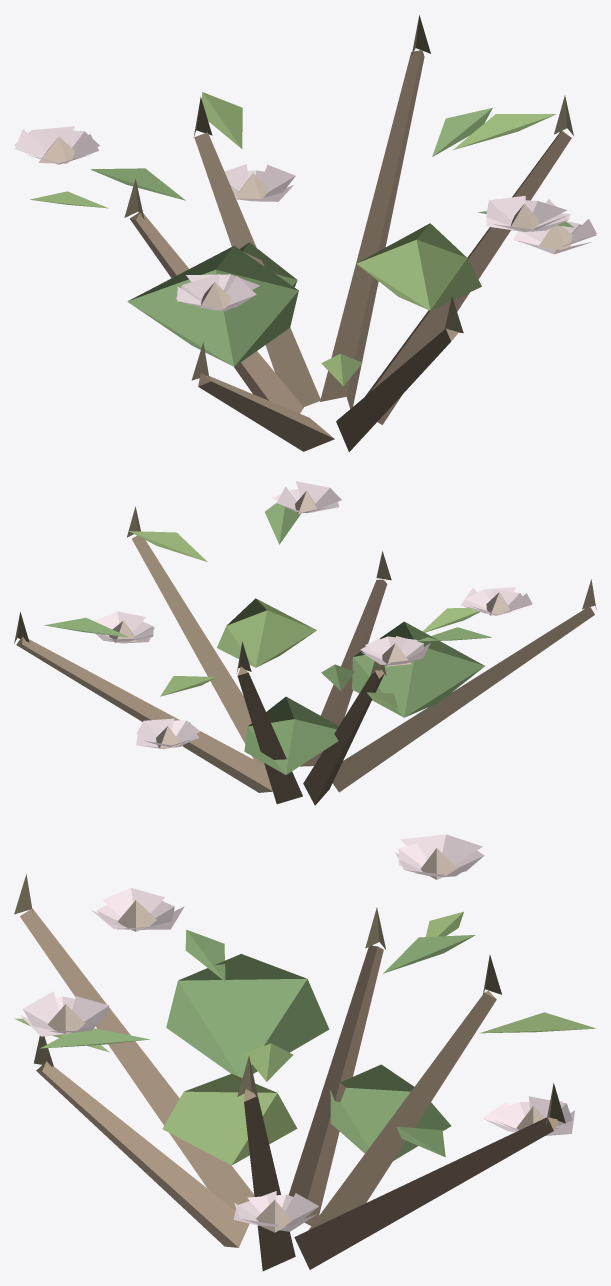
File: cao.hanji__spring.glb
The picture shows the model from 3 angles, top to bottom: view 1: azimuth 30°, elevation 25°; view 2: azimuth 150°, elevation 25°; view 3: azimuth 270°, elevation 25°; orthographic projection. The views are drawn at different scales.
Parts seen in each view (by area): view 1: cao.hanji__spring; view 2: cao.hanji__spring; view 3: cao.hanji__spring.
Boxes of the visible parts, x1=… form: cao.hanji__spring: x1=14, y1=15, x2=596, y2=451; cao.hanji__spring: x1=14, y1=481, x2=596, y2=805; cao.hanji__spring: x1=14, y1=834, x2=595, y2=1271.
Size of the model in its own units: 2.13 by 1.17 by 1.99.
